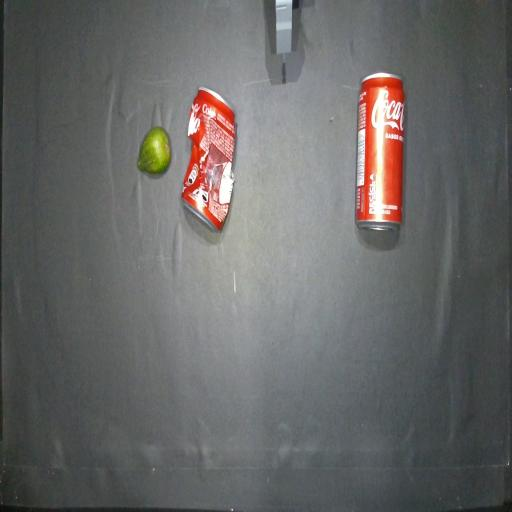higo: (138, 127, 171, 174)
lata: (355, 73, 404, 230)
lata_defectuoso: (182, 88, 235, 230)
